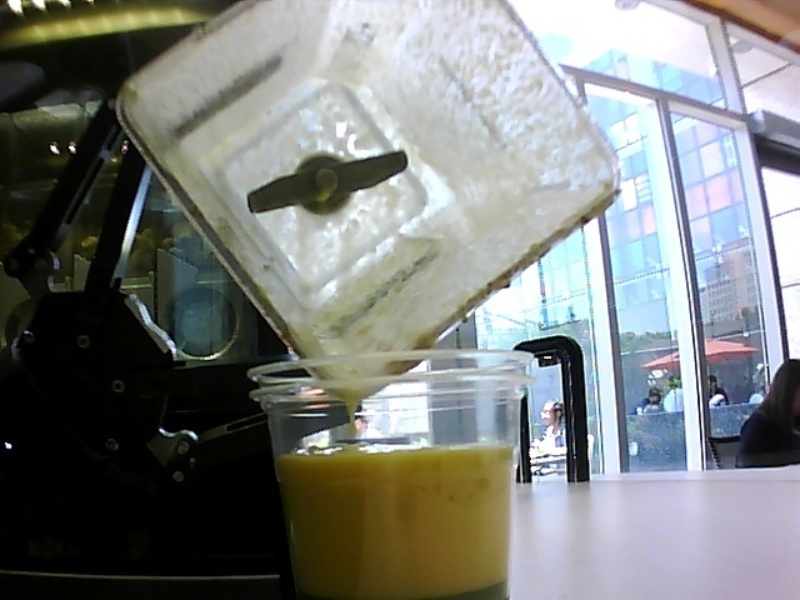cup: (242, 345, 539, 600)
limit: (271, 435, 518, 467)
